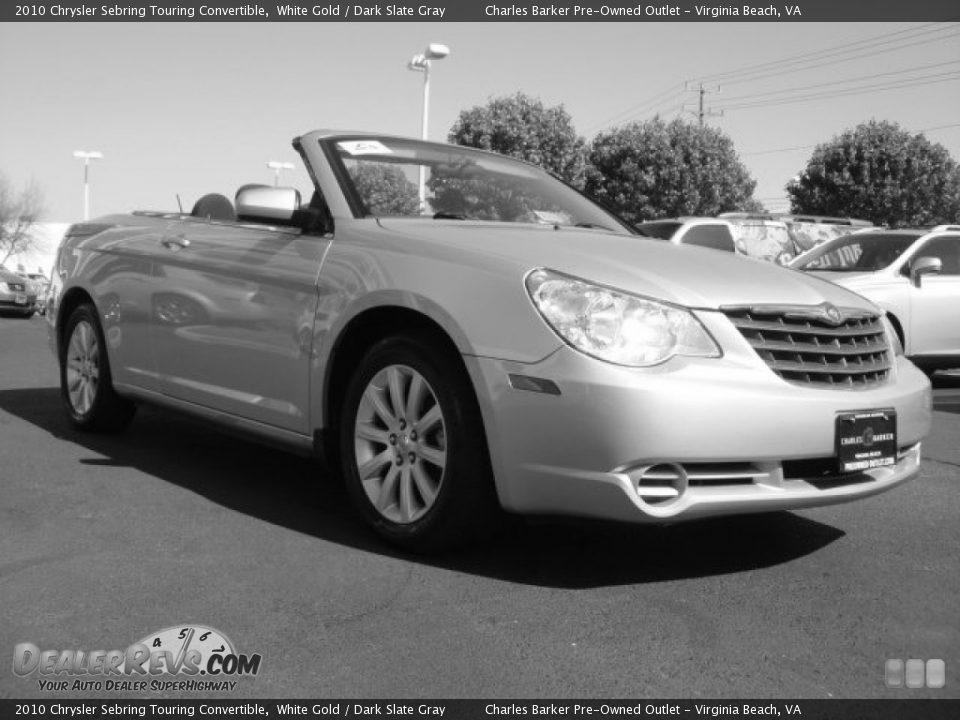car: (53, 125, 935, 552)
